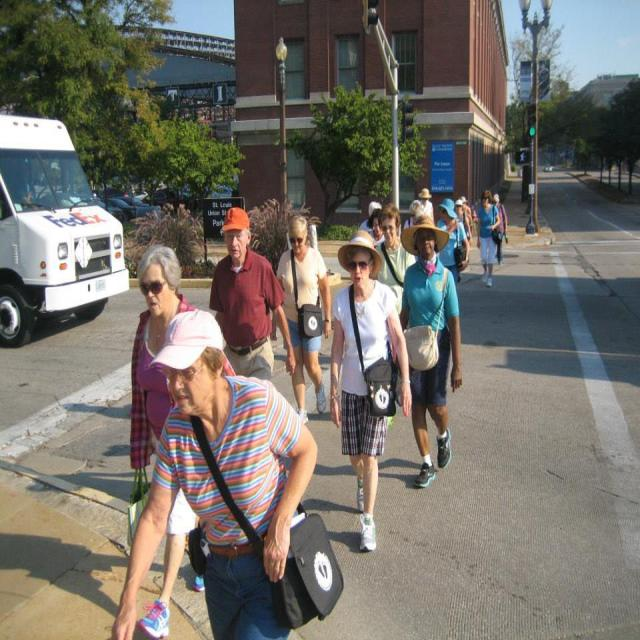body: (109, 304, 348, 639), (1, 367, 180, 626), (128, 243, 234, 639), (327, 229, 412, 554), (264, 413, 425, 563), (395, 211, 463, 489), (209, 206, 296, 383), (272, 214, 334, 426), (371, 201, 418, 316), (435, 196, 471, 286), (475, 187, 498, 289), (493, 193, 509, 267), (454, 198, 473, 246), (365, 207, 385, 250), (357, 200, 383, 232), (402, 199, 423, 230), (418, 187, 436, 222), (459, 196, 474, 233)
